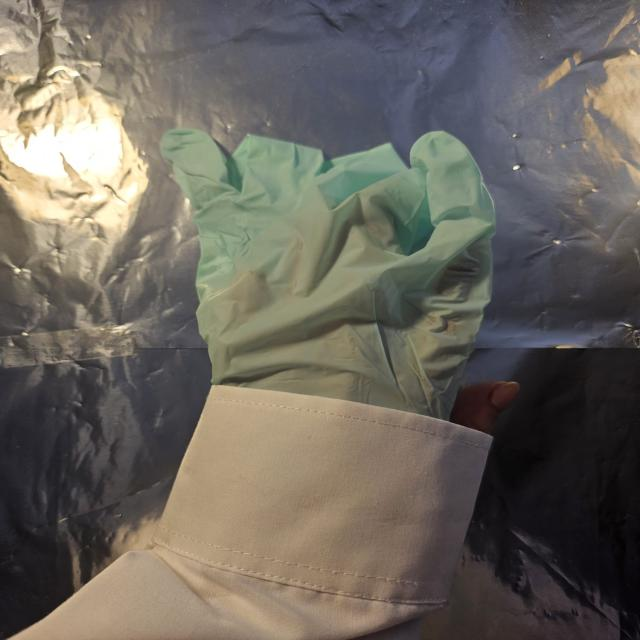glove_partial: (160, 131, 527, 436)
